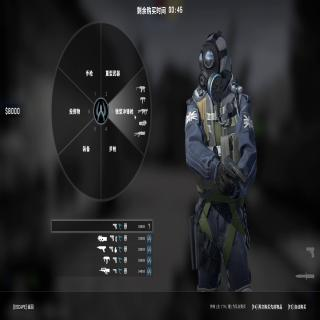CT-Body: (185, 30, 258, 299)
CT-Head: (198, 32, 228, 89)
